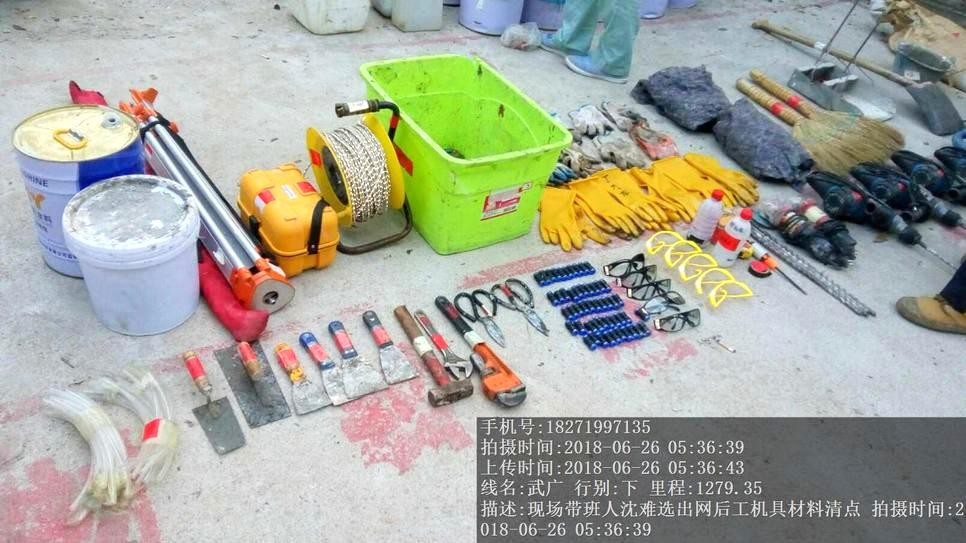SB: (743, 78, 884, 165)
T: (365, 62, 554, 252)
